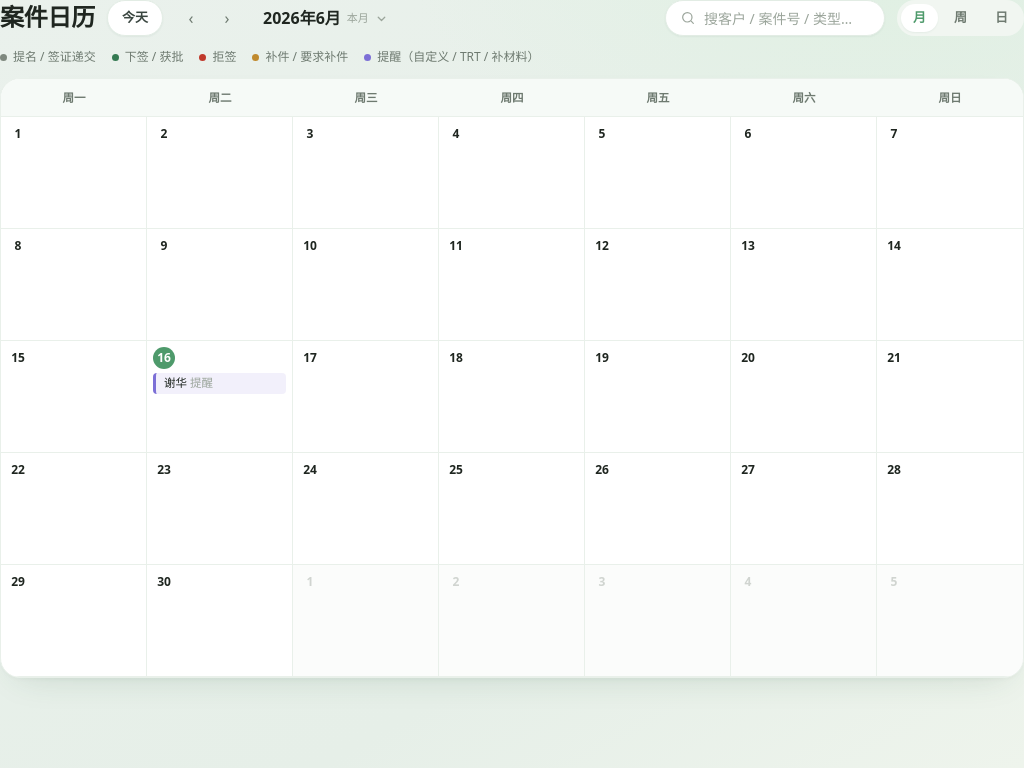
Test case: CalendarPage·Google 风（顶栏 + 彩条 + 三视图） › 自定义提醒 = 紫条（#7c6fd6），详情 popover 列出内容
This screenshot has width=1024, height=768.
Click the button "谢华 提醒".
click(220, 384)  # box [153,373,286,394]
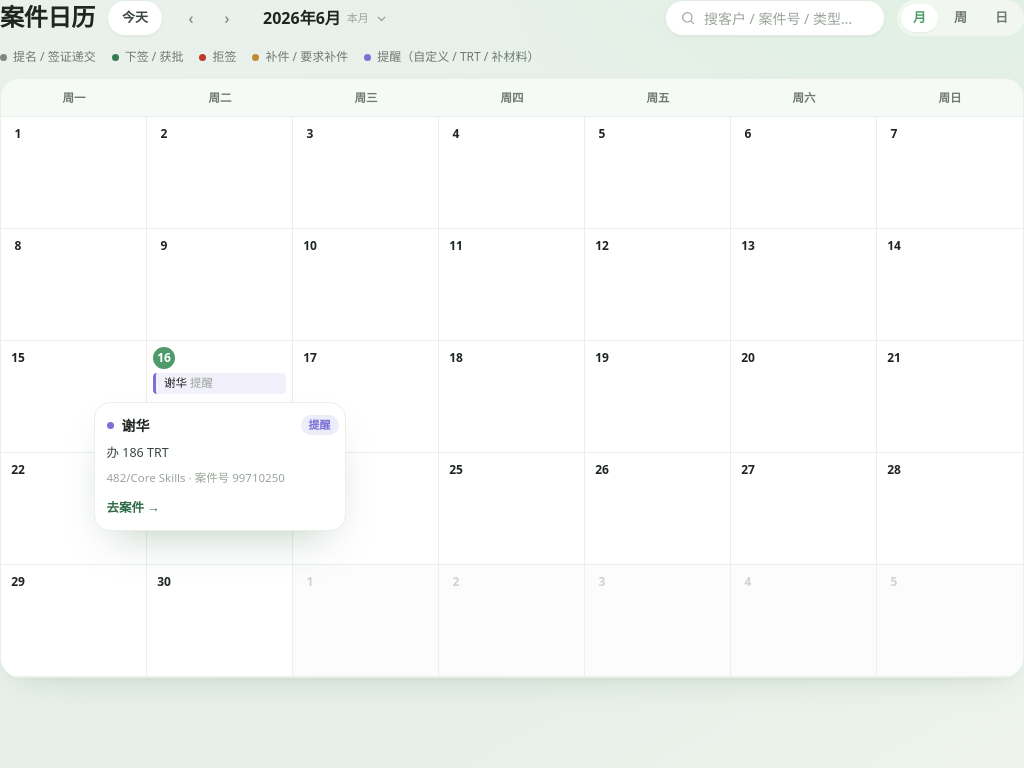
Check: the text "办 186 TRT" is shown, box [106,444,169,461]
